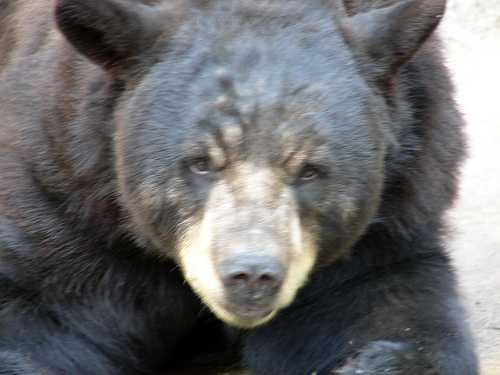bear: (182, 202, 310, 330), (51, 1, 179, 128), (323, 1, 451, 128)
